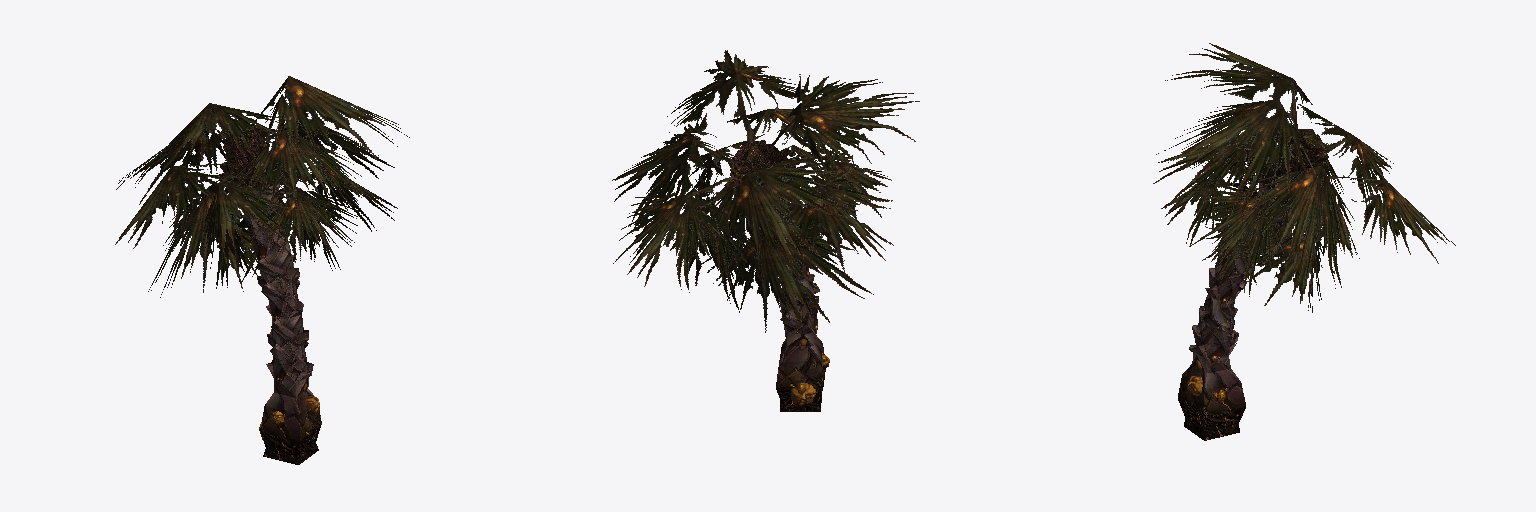
3 renders of one model, left to right at view 1: azimuth 30°, elevation 25°; view 2: azimuth 150°, elevation 25°; view 3: azimuth 270°, elevation 25°, orthographic.
Parts seen in each view (by area): view 1: sholazarpalm_tree_scourge_02; view 2: sholazarpalm_tree_scourge_02; view 3: sholazarpalm_tree_scourge_02.
Boxes of the visible parts, box(x1,y1,x2,y2) form: sholazarpalm_tree_scourge_02: box(115, 76, 409, 464); sholazarpalm_tree_scourge_02: box(612, 50, 919, 411); sholazarpalm_tree_scourge_02: box(1153, 43, 1455, 440).
Size of the model in its own units: 22.6 by 24.39 by 23.71.
Materials: 2 (2 with a texture image).